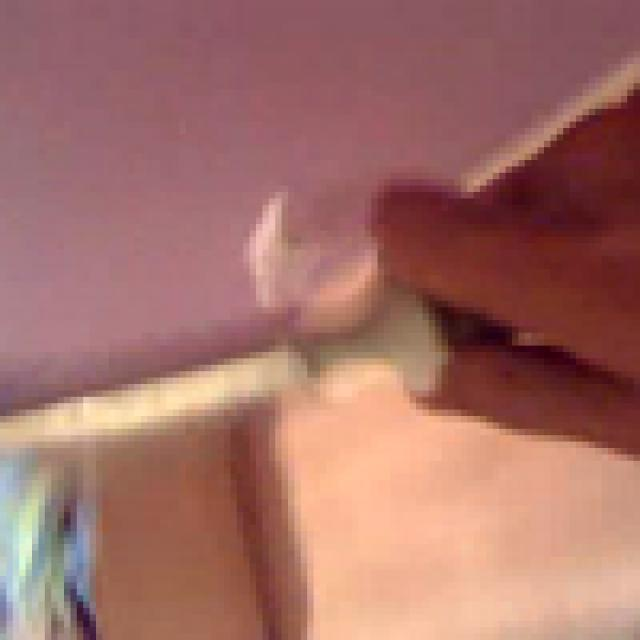Knife_Handle: (0, 86, 640, 458)
